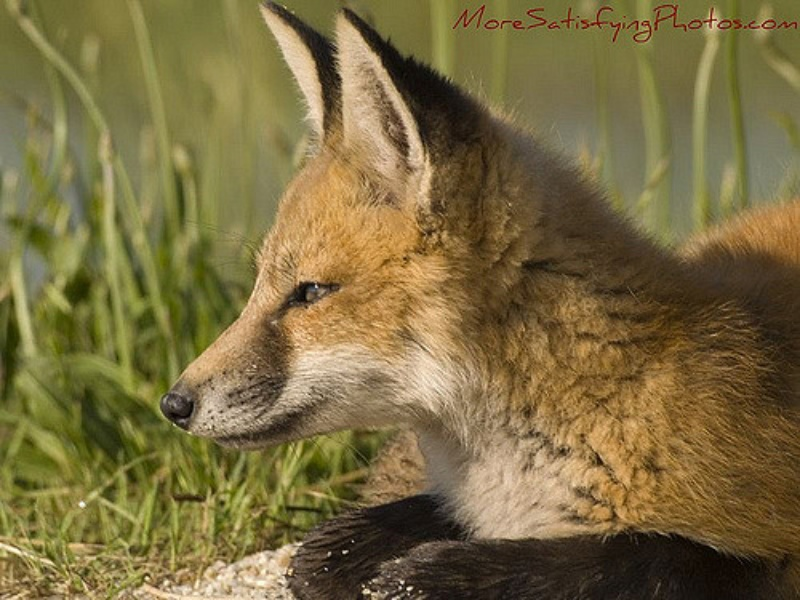fox: (149, 11, 800, 595)
